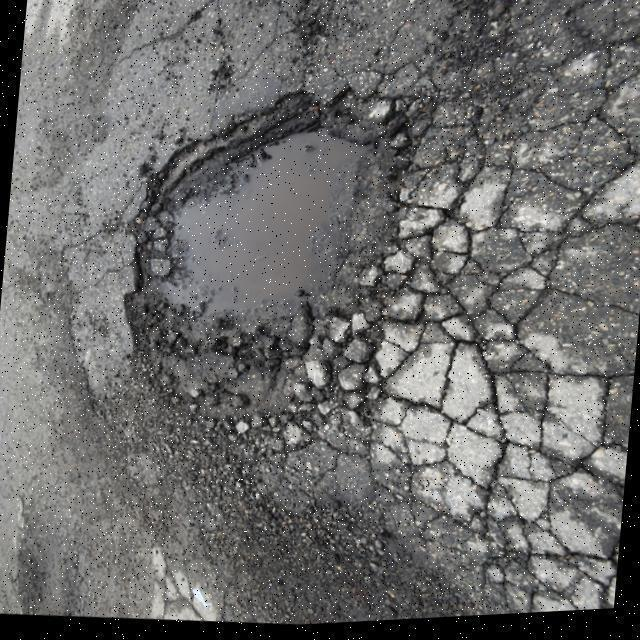Pothole: (120, 78, 441, 476)
